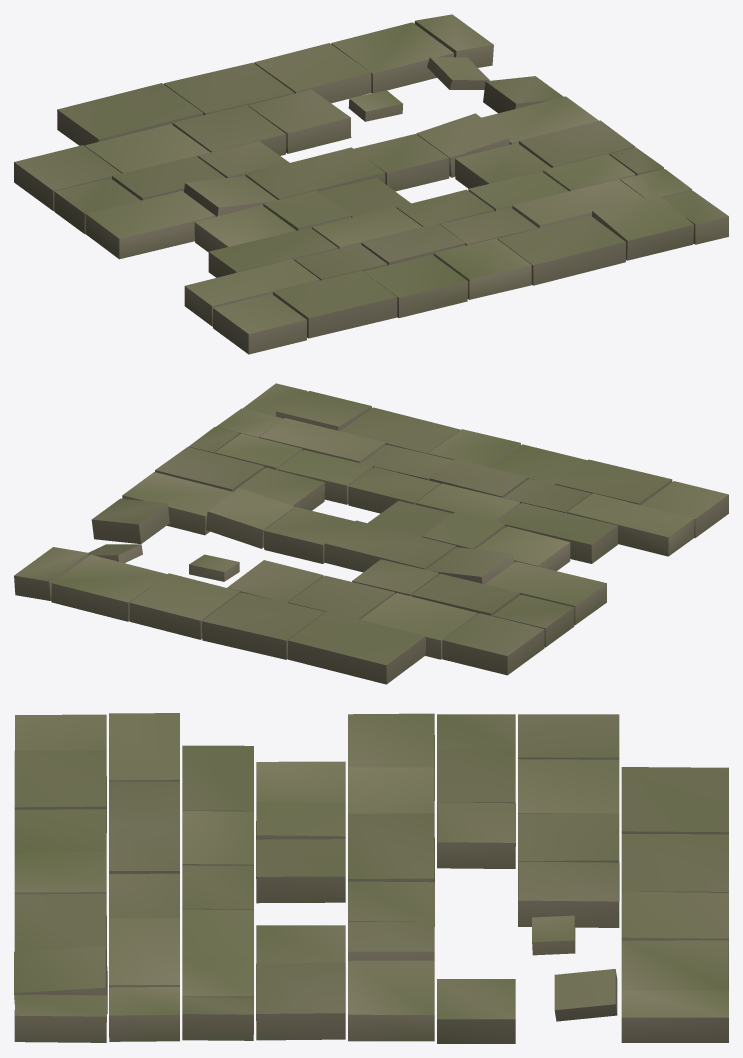
The model's file is agora_paving_mid.glb.
3 renders of one model, top to bottom at view 1: azimuth 30°, elevation 25°; view 2: azimuth 150°, elevation 25°; view 3: azimuth 270°, elevation 25°, orthographic. The views are drawn at different scales.
Visible parts, largest first — view 1: agora_paving_mid; view 2: agora_paving_mid; view 3: agora_paving_mid.
Part boxes in pixels (x1=…): agora_paving_mid: x1=14, y1=14, x2=728, y2=354; agora_paving_mid: x1=14, y1=383, x2=728, y2=684; agora_paving_mid: x1=14, y1=713, x2=728, y2=1043.
Bounding box in the file's own units: 18.48 × 1.09 × 18.47.
